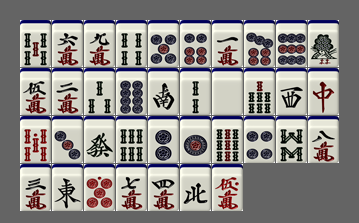0m: (212, 164, 243, 211)
0p: (84, 164, 115, 211)
0s: (20, 116, 51, 163)
1m: (212, 20, 243, 67)
1p: (180, 116, 211, 163)
1s: (308, 20, 339, 67)
1z: (52, 164, 83, 211)
2m: (52, 68, 83, 115)
2p: (148, 116, 179, 163)
2s: (180, 68, 211, 115)
2z: (148, 68, 179, 115)
3m: (20, 164, 51, 211)
3p: (52, 116, 83, 163)
3s: (84, 68, 115, 115)
3z: (276, 68, 307, 115)
4m: (148, 164, 179, 211)
4p: (244, 116, 275, 163)
4s: (116, 20, 147, 67)
4z: (180, 164, 211, 211)
5m: (20, 68, 51, 115)
5p: (148, 20, 179, 67)
5s: (20, 20, 51, 67)
5z: (212, 68, 243, 115)
6m: (52, 20, 83, 67)
6p: (180, 20, 211, 67)
6s: (116, 116, 147, 163)
6z: (84, 116, 115, 163)
7m: (116, 164, 147, 211)
7p: (244, 20, 275, 67)
7s: (244, 68, 275, 115)
7z: (308, 68, 339, 115)
8m: (308, 116, 339, 163)
8p: (116, 68, 147, 115)
8s: (276, 116, 307, 163)
9m: (84, 20, 115, 67)
9p: (276, 20, 307, 67)
9s: (212, 116, 243, 163)
